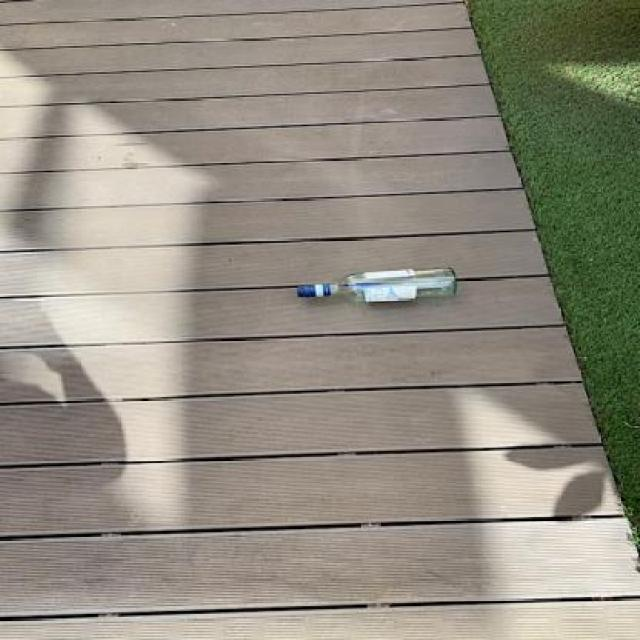trash: (288, 263, 460, 306)
